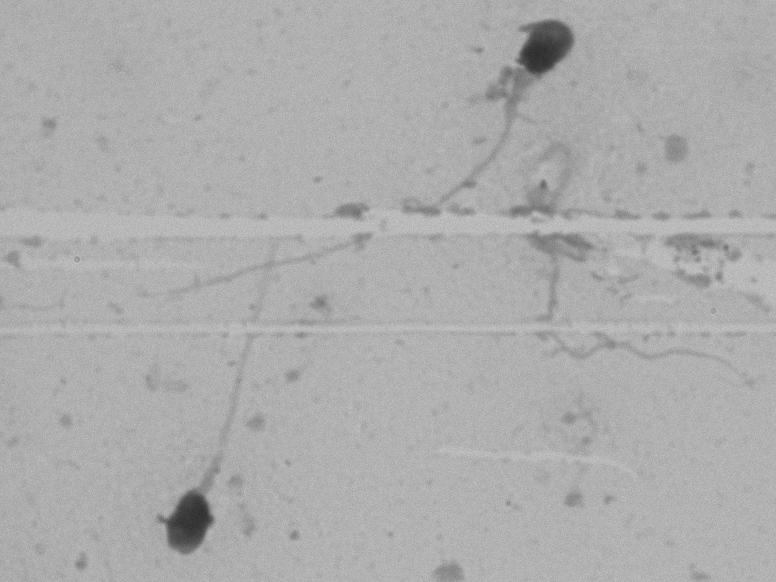Abnormal: (107, 260, 326, 561), (363, 9, 625, 223)
